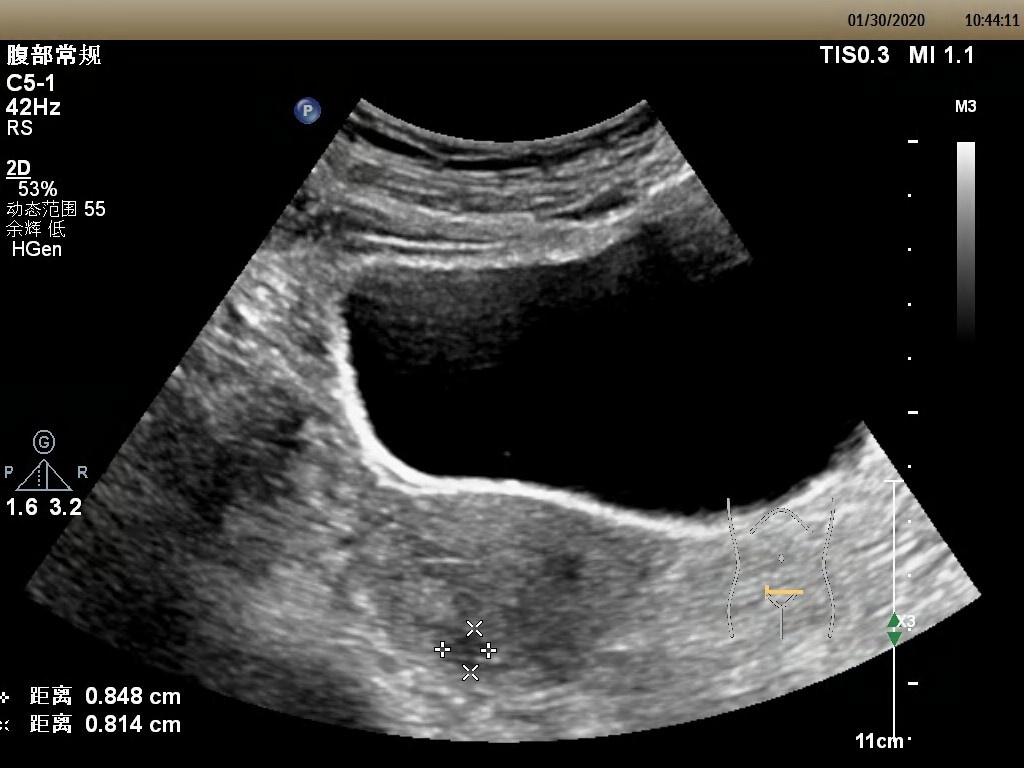肌瘤: (441, 627, 490, 667)
